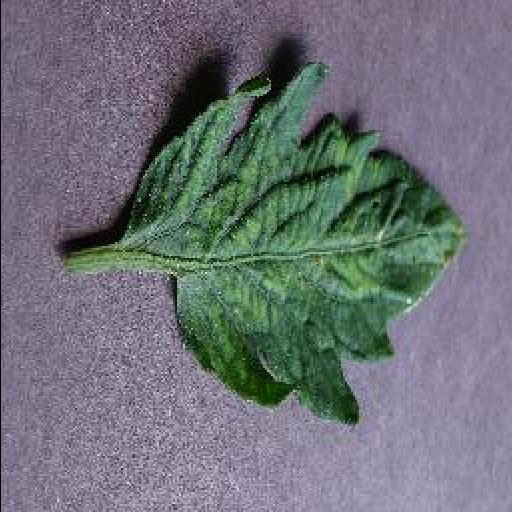Mosaic Virus: (126, 60, 464, 428)
